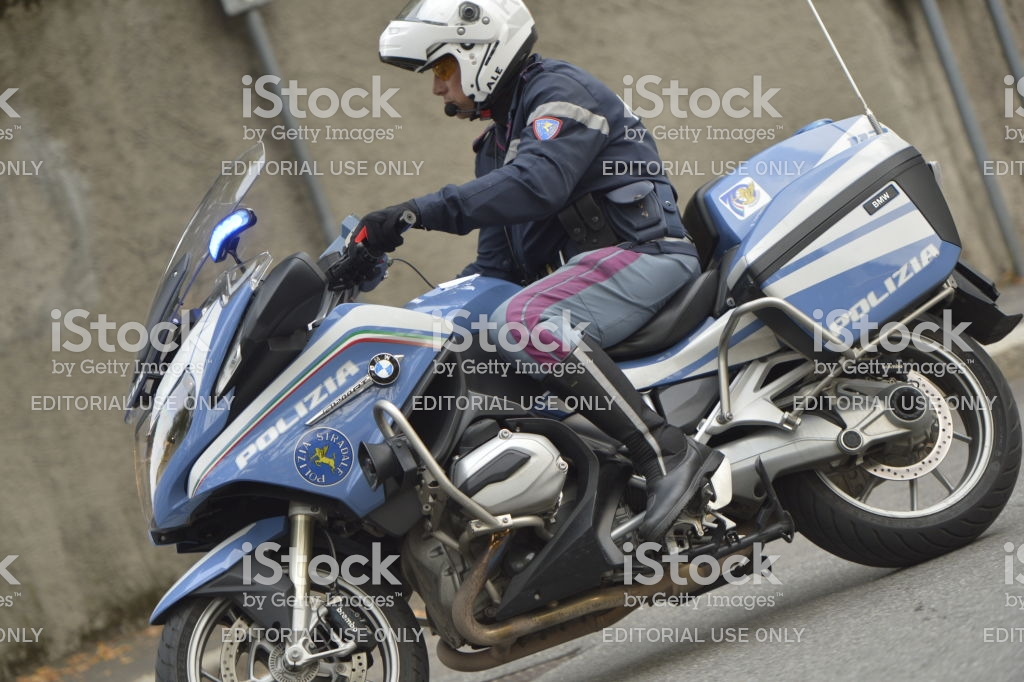helmet: (386, 3, 535, 98)
